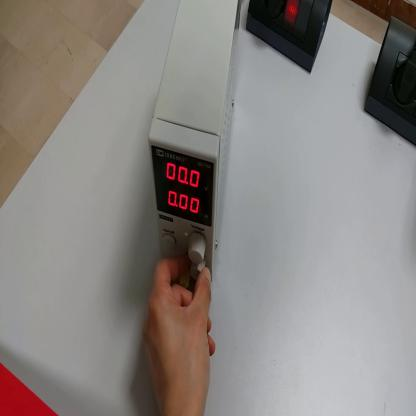hand: (145, 259, 217, 415)
power supply: (149, 2, 242, 293)
socket: (365, 13, 416, 145), (247, 1, 333, 74)
